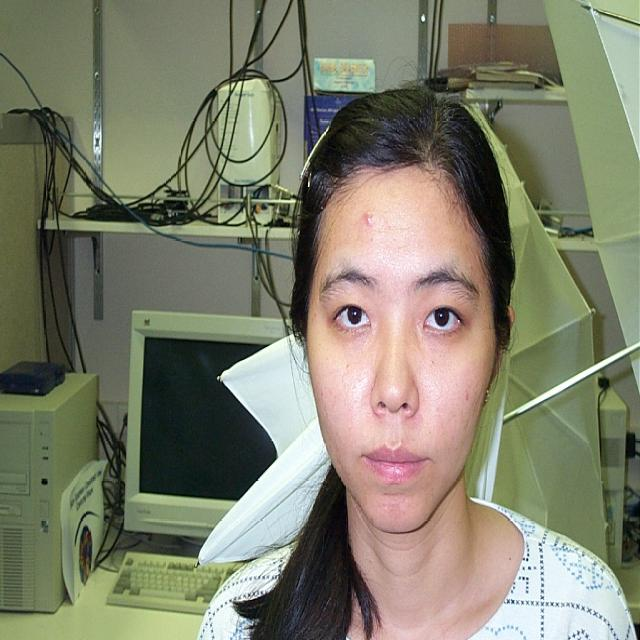sem_oculos: (294, 241, 522, 358)
